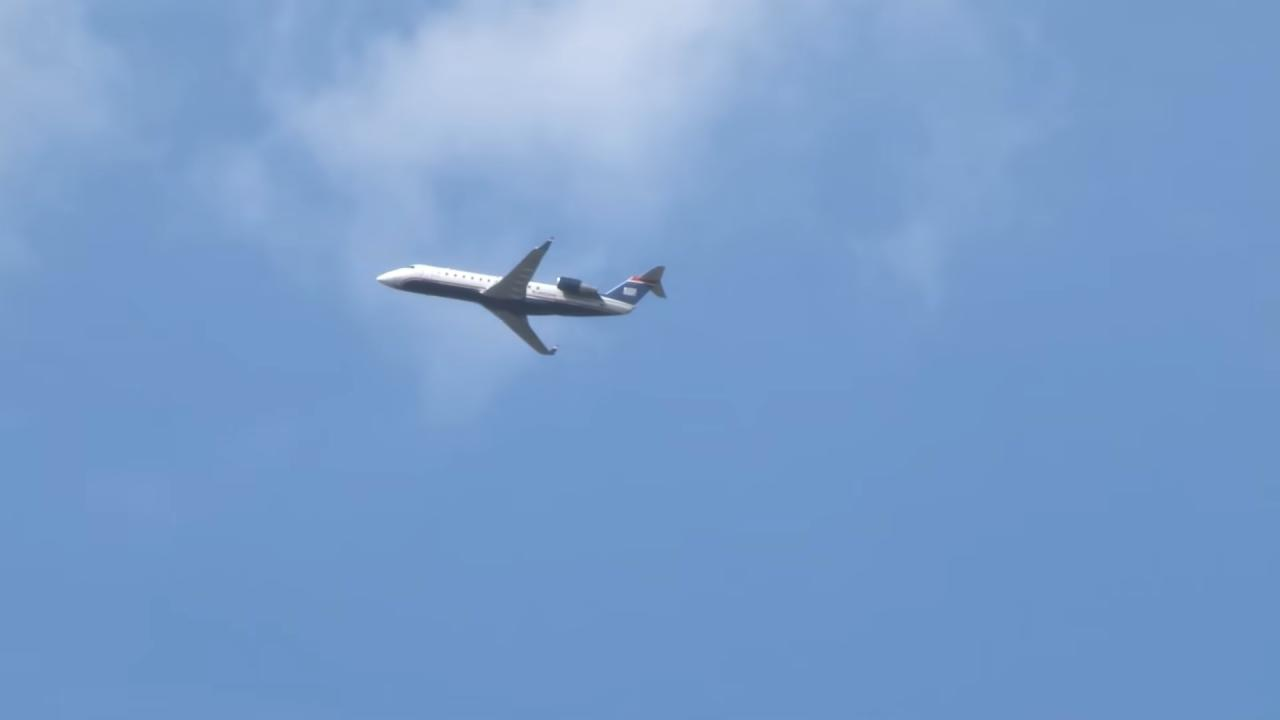Airplane: (369, 211, 677, 369)
